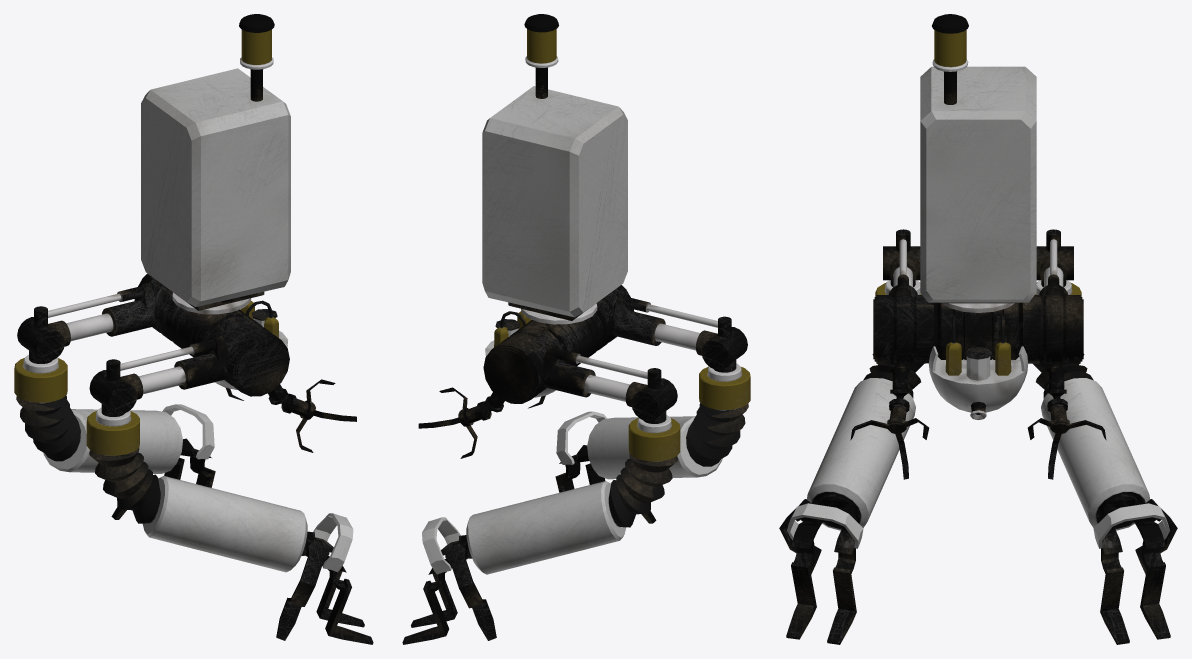
File: nier_automata_pod_042.glb
The picture shows the model from 3 angles, left to right: view 1: azimuth 30°, elevation 25°; view 2: azimuth 150°, elevation 25°; view 3: azimuth 270°, elevation 25°; orthographic projection. The views are drawn at different scales.
Visible parts, largest first — view 1: Object_2; view 2: Object_2; view 3: Object_2.
Boxes of the visible parts, x1,y1,x2,y2 form: Object_2: (14,14,373,644); Object_2: (402,14,750,644); Object_2: (779,14,1177,644).
Bounding box in the file's own units: 2.63 × 5.71 × 3.43.
Materials: 1 (1 with a texture image).
